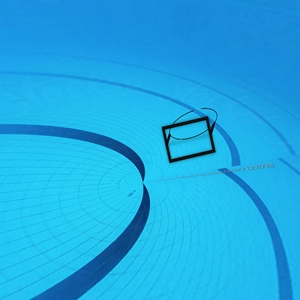circle: (161, 105, 222, 166)
